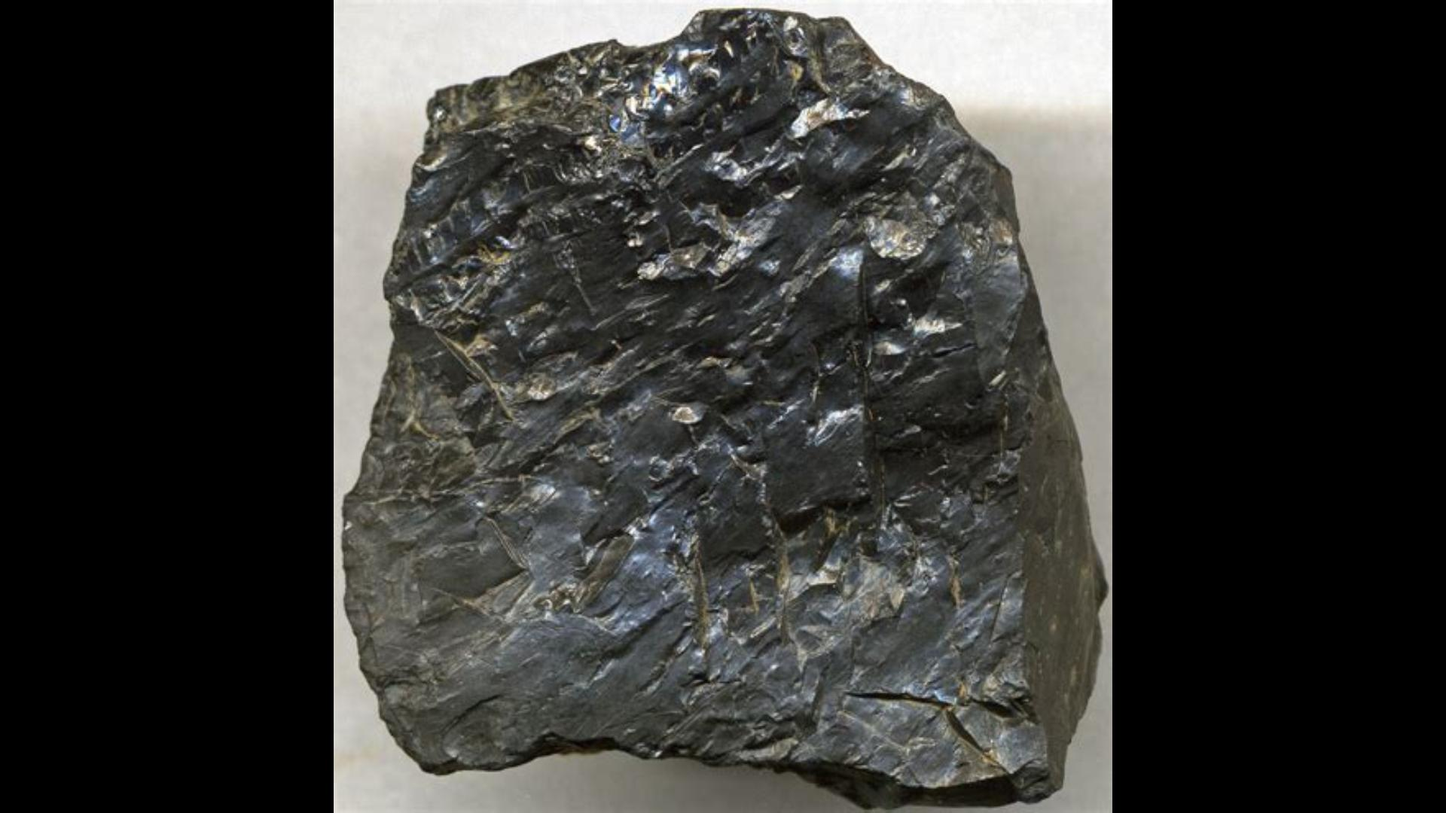rock: (343, 11, 1106, 805)
